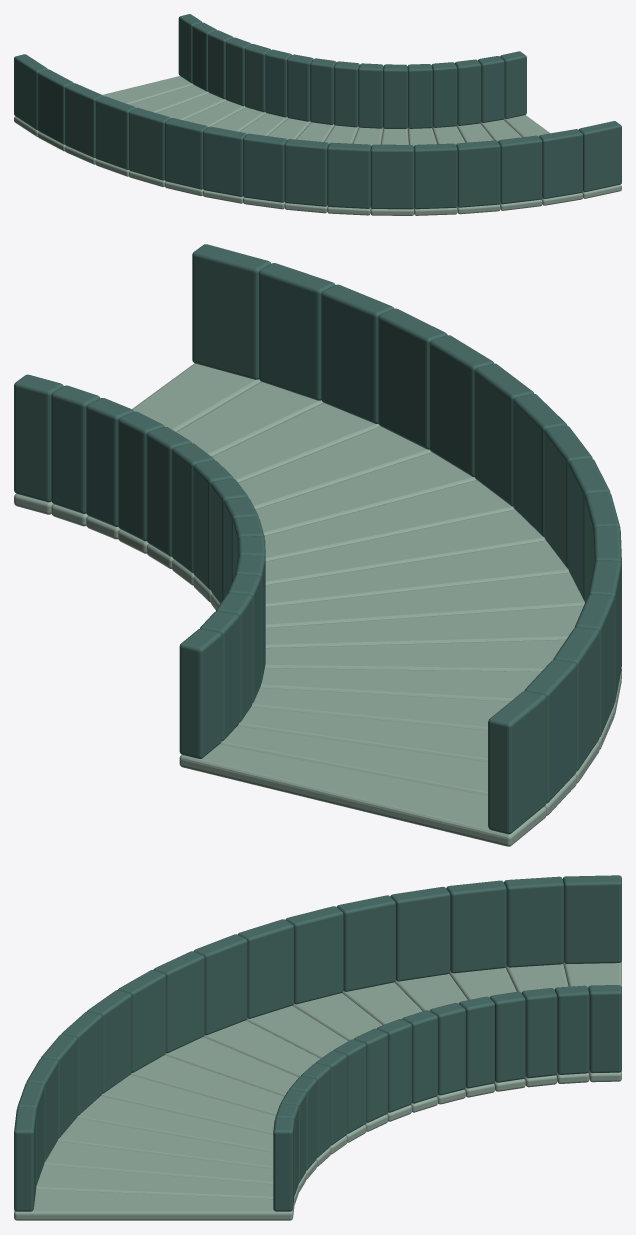
The model's file is bend.glb.
3 renders of one model, top to bottom at view 1: azimuth 30°, elevation 25°; view 2: azimuth 150°, elevation 25°; view 3: azimuth 270°, elevation 25°, orthographic. The views are drawn at different scales.
Visible parts, largest first — view 1: bend; view 2: bend; view 3: bend.
Boxes of the visible parts, x1,y1,x2,y2 form: bend: (14,14,621,215); bend: (14,244,621,846); bend: (14,875,621,1220).
Bounding box in the file's own units: 0.061 × 0.01 × 0.061.
